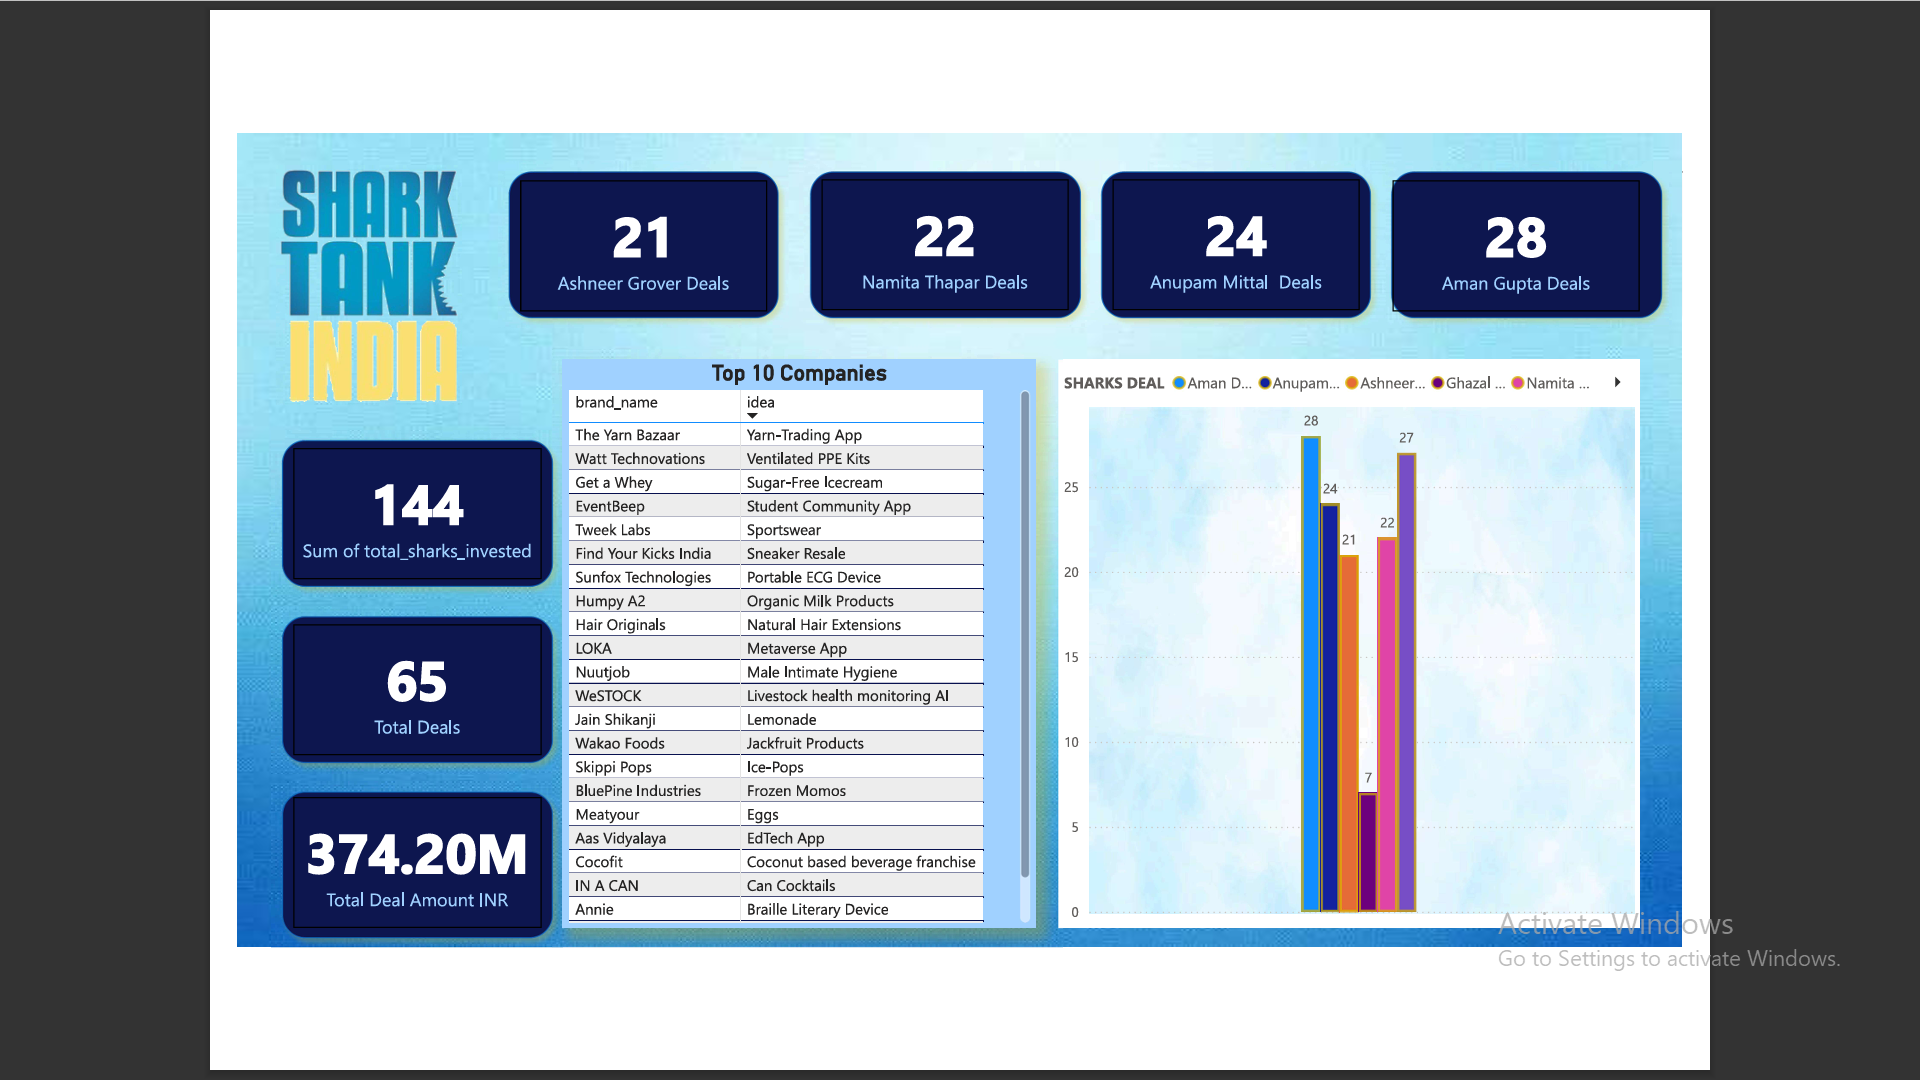

The dashboard page shown, as its layout file describes it:
{"tool":"powerbi","page":{"name":"Page 1","canvas":[1280,720],"ordinal":0},"visuals":[{"type":"image","box":[0,23.3,231.7,221.7],"z":1000},{"type":"shape","box":[1013.2,23.9,257.7,147.9],"z":3004},{"type":"shape","box":[30.2,572.6,257.7,147.9],"z":3005},{"type":"shape","box":[30.2,418.3,257.7,147.9],"z":3006},{"type":"shape","box":[30.2,262.5,257.7,147.9],"z":3007},{"type":"shape","box":[755.5,23.9,257.7,147.9],"z":3008},{"type":"shape","box":[497.9,23.9,257.7,147.9],"z":3009},{"type":"shape","box":[230.6,23.9,257.7,147.9],"z":3010},{"type":"card","fields":{"Values":["Shark Tank India Dataset.Aman Deals"]},"box":[1022.8,41.4,219.5,116.1],"z":3015},{"type":"card","fields":{"Values":["Shark Tank India Dataset.Anupam Deals"]},"box":[774.6,39.8,219.5,116.1],"z":3016},{"type":"card","fields":{"Values":["Shark Tank India Dataset.Namita Deals"]},"box":[516.9,39.8,219.5,116.1],"z":3017},{"type":"card","fields":{"Values":["Shark Tank India Dataset.Ashneer Deals"]},"box":[249.7,41.4,219.5,116.1],"z":3018},{"type":"card","fields":{"Values":["Shark Tank India Dataset.Total Deal Amount INR"]},"box":[49.3,586.9,219.5,116.1],"z":3019},{"type":"card","fields":{"Values":["Shark Tank India Dataset.Total Deals"]},"box":[49.3,434.2,219.5,116.1],"z":3020},{"type":"card","fields":{"Values":["Shark Tank India Dataset.total_sharks_invested"]},"box":[49.3,278.4,219.5,116.1],"z":3021},{"type":"clusteredColumnChart","fields":{"Y":["Shark Tank India Dataset.Aman Deals","Shark Tank India Dataset.Anupam Deals","Shark Tank India Dataset.Ashneer Deals","Shark Tank India Dataset.Ghazal Deals","Shark Tank India Dataset.Namita Deals","Shark Tank India Dataset.Peeyush Deals"]},"box":[726.7,200,515,503.3],"z":3022},{"type":"tableEx","title":"Top 10 Companies","fields":{"Values":["Shark Tank India Dataset.brand_name","Shark Tank India Dataset.idea"]},"box":[288.3,200,418.3,503.3],"z":3023}]}

Visuals, with their boxes on the page's 1280x720 design canvas (x1, y1, x2, y2). These are canvas units, not pixel positions in the 1920x1080 screenshot, which may show the page scaled, cropped or inside an application window:
image: (0, 23, 232, 245)
shape: (1013, 24, 1271, 172)
shape: (30, 573, 288, 720)
shape: (30, 418, 288, 566)
shape: (30, 262, 288, 410)
shape: (756, 24, 1013, 172)
shape: (498, 24, 756, 172)
shape: (231, 24, 488, 172)
card - Shark Tank India Dataset.Aman Deals: (1023, 41, 1242, 158)
card - Shark Tank India Dataset.Anupam Deals: (775, 40, 994, 156)
card - Shark Tank India Dataset.Namita Deals: (517, 40, 736, 156)
card - Shark Tank India Dataset.Ashneer Deals: (250, 41, 469, 158)
card - Shark Tank India Dataset.Total Deal Amount INR: (49, 587, 269, 703)
card - Shark Tank India Dataset.Total Deals: (49, 434, 269, 550)
card - Shark Tank India Dataset.total_sharks_invested: (49, 278, 269, 394)
clusteredColumnChart - Shark Tank India Dataset.Aman Deals x Shark Tank India Dataset.Anupam Deals: (727, 200, 1242, 703)
"Top 10 Companies" tableEx: (288, 200, 707, 703)
